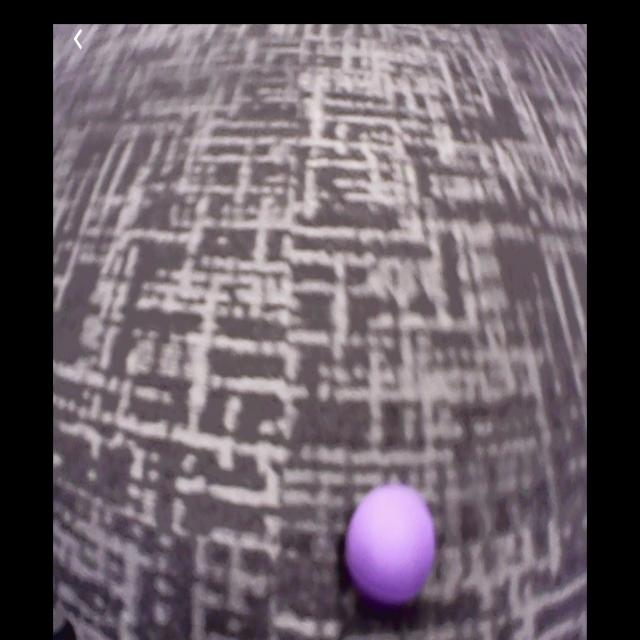ball: (350, 488, 437, 603)
